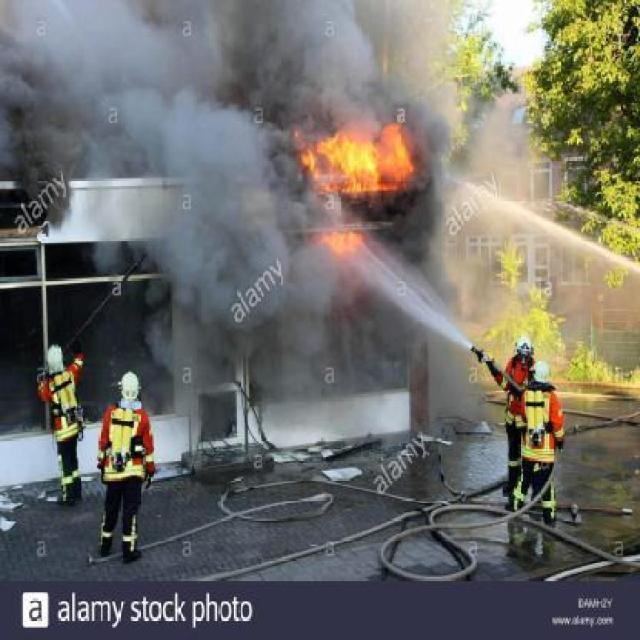Fire: (291, 100, 444, 234)
Smoke: (128, 94, 337, 422), (0, 0, 469, 137)
